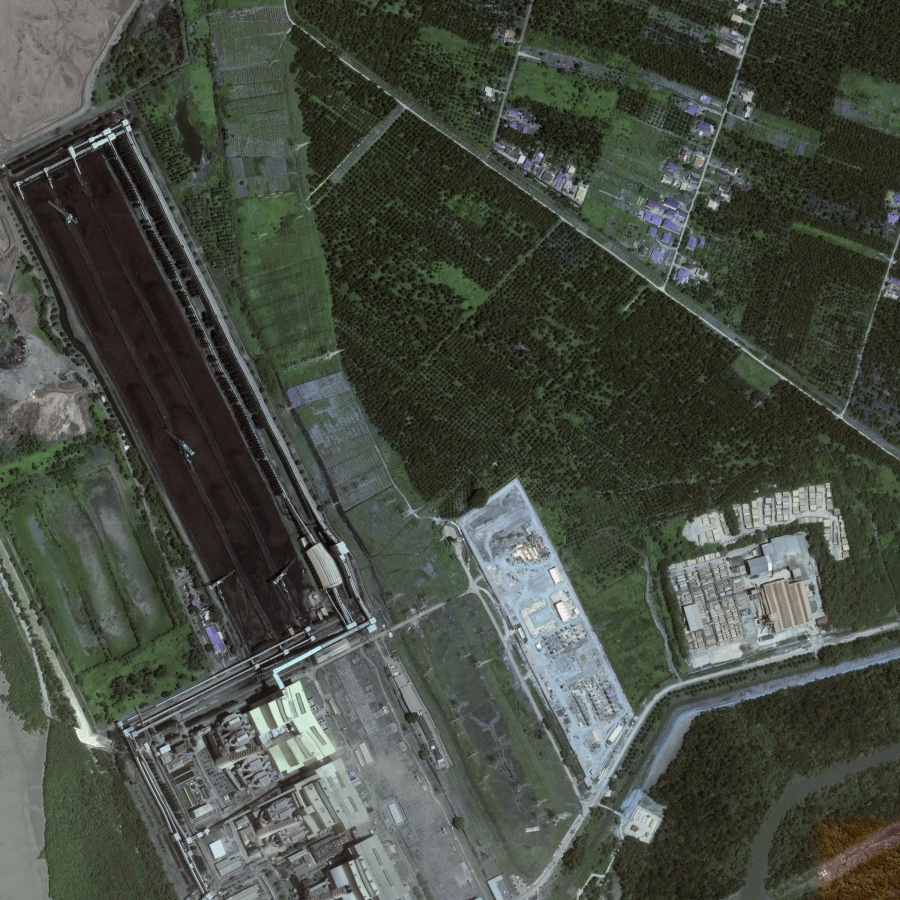PowerPlant: (22, 121, 345, 658)
